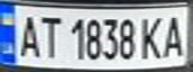1: (63, 14, 84, 61)
3: (100, 15, 121, 61)
8: (81, 15, 103, 61), (118, 15, 139, 61)
A: (12, 11, 42, 58), (160, 11, 190, 58)
K: (136, 12, 166, 60)
T: (36, 11, 63, 60)
